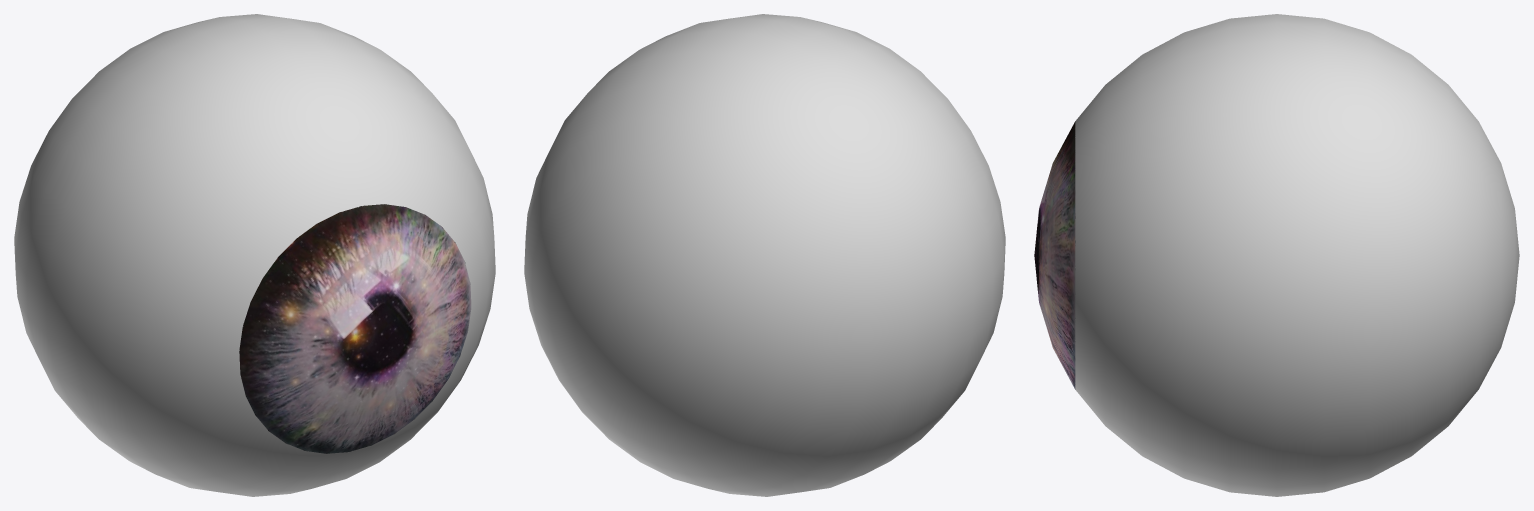
Rendered from Eye.glb.
The picture shows the model from 3 angles, left to right: view 1: azimuth 30°, elevation 25°; view 2: azimuth 150°, elevation 25°; view 3: azimuth 270°, elevation 25°; orthographic projection.
Parts seen in each view (by area): view 1: Sphere; view 2: Sphere; view 3: Sphere.
Part boxes in pixels (x1,y1,x2,y2): Sphere: (14,14,495,496); Sphere: (524,14,1005,496); Sphere: (1034,14,1519,496).
Size of the model in its own units: 2 by 2 by 2.
Materials: 2 (1 with a texture image).
